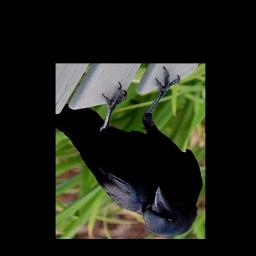Crow: (56, 65, 203, 236)
